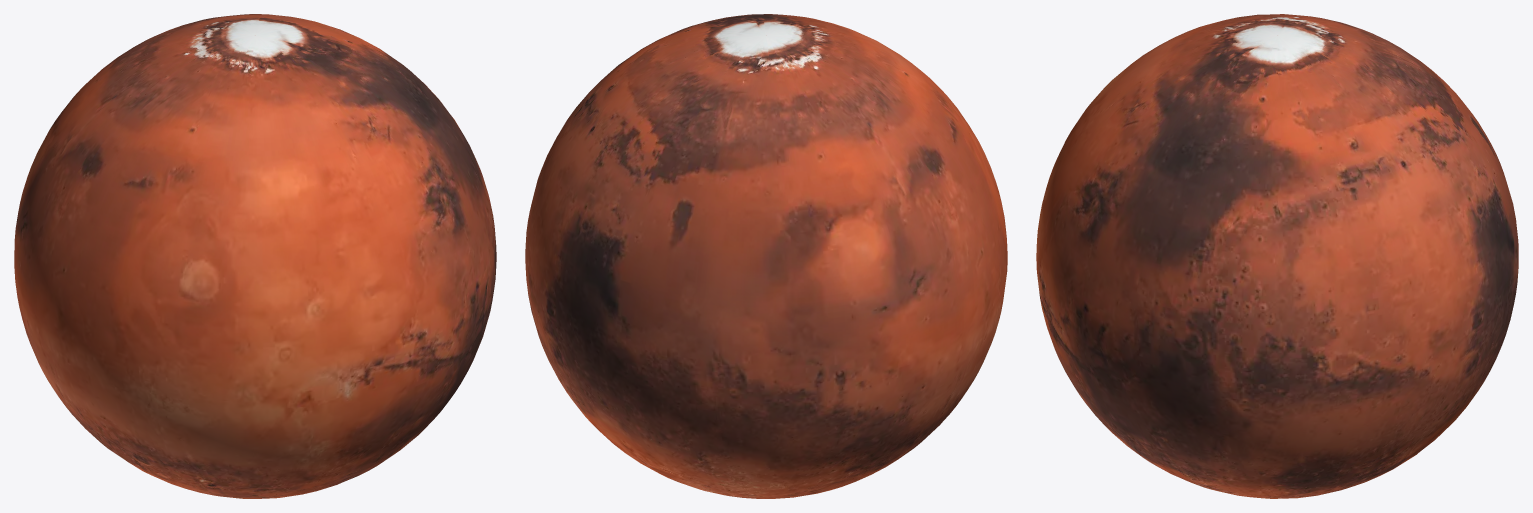
File: mars.glb
The picture shows the model from 3 angles, left to right: view 1: azimuth 30°, elevation 25°; view 2: azimuth 150°, elevation 25°; view 3: azimuth 270°, elevation 25°; orthographic projection.
Parts seen in each view (by area): view 1: Object_2; view 2: Object_2; view 3: Object_2.
Part boxes in pixels (x1,y1,x2,y2): Object_2: [14, 14, 496, 498]; Object_2: [525, 14, 1007, 498]; Object_2: [1036, 14, 1518, 498].
Bounding box in the file's own units: 1.97 × 2 × 1.97.
1 material, 1 textured.
